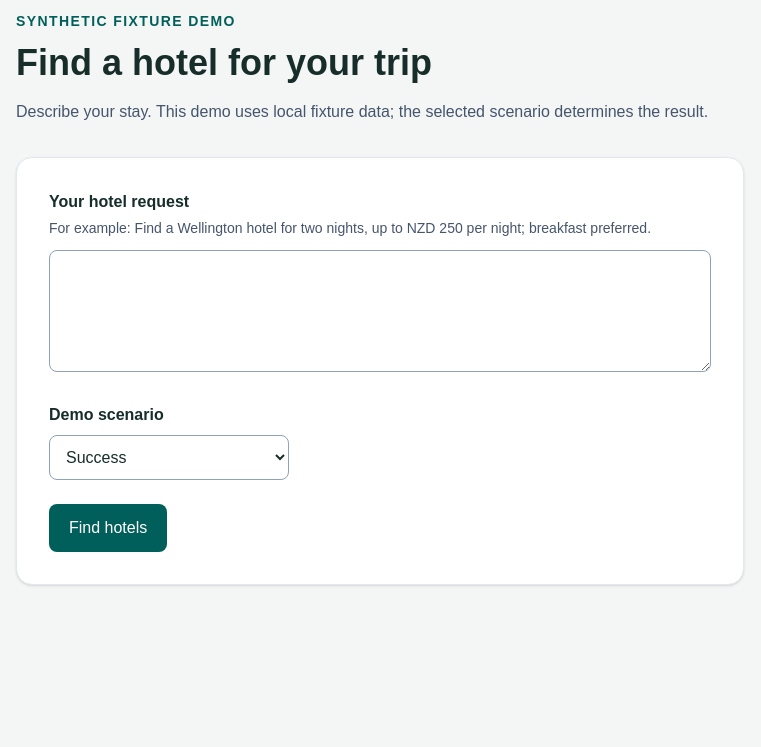
Test: recommendation request journey › rejects a successful HTTP response with malformed JSON
Type "Find a Wellington hotel for two nights." into the text box labelled "Your hotel request". click: (380, 311)
box: [49, 250, 711, 372]
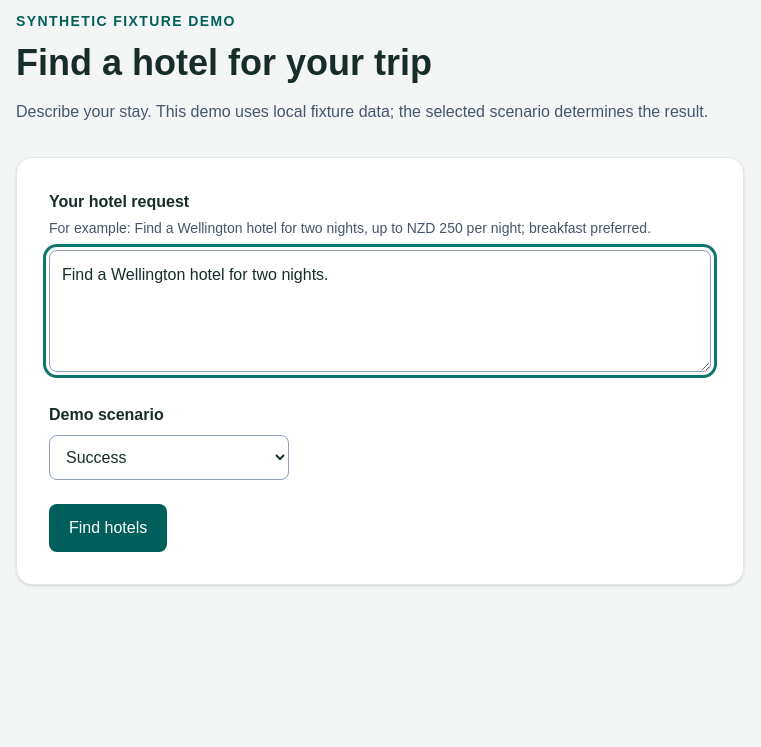
Click the button "Find hotels". click: (108, 528)
box: [49, 504, 167, 552]
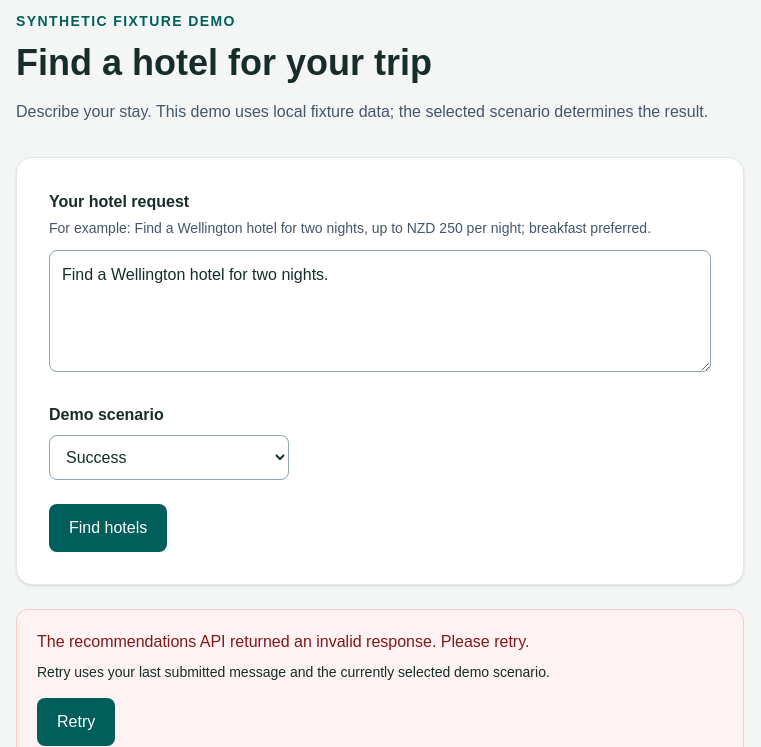
Result: the message shows "returned an invalid response" at [37, 633, 529, 650]
Result: the button "Retry" is enabled at [37, 698, 115, 746]
